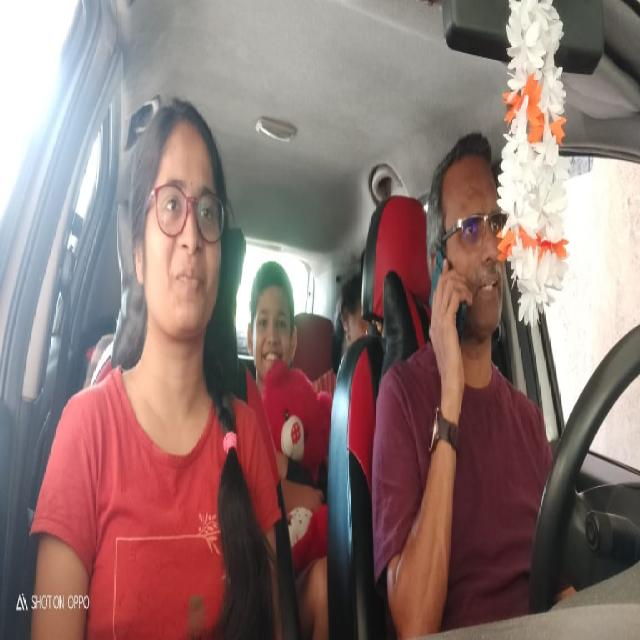mobile: (428, 250, 471, 356)
person: (131, 92, 227, 366), (427, 133, 508, 393), (245, 259, 298, 388), (329, 280, 369, 382)
